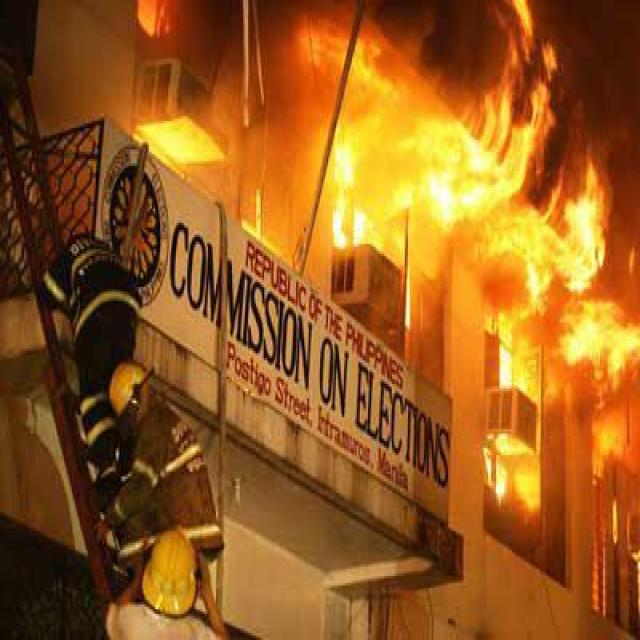fire: (271, 2, 630, 269), (482, 272, 637, 505), (134, 0, 178, 43)
